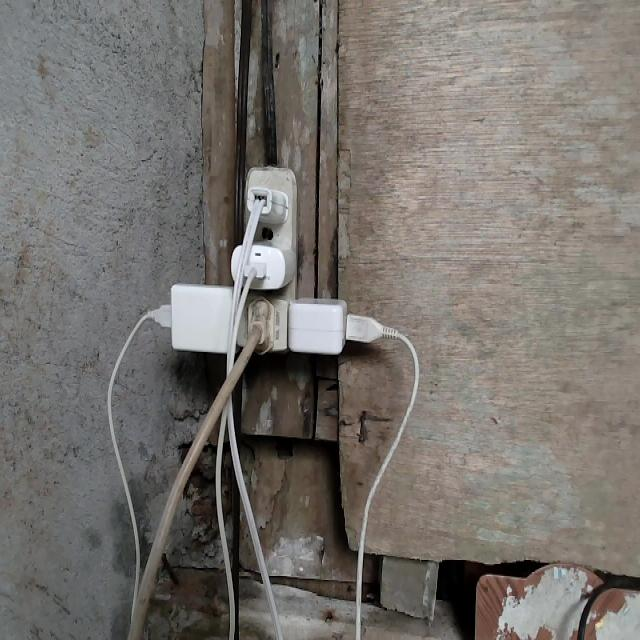-: (149, 161, 383, 359)
